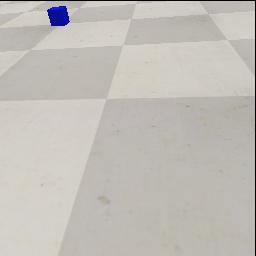box: (47, 6, 70, 26)
